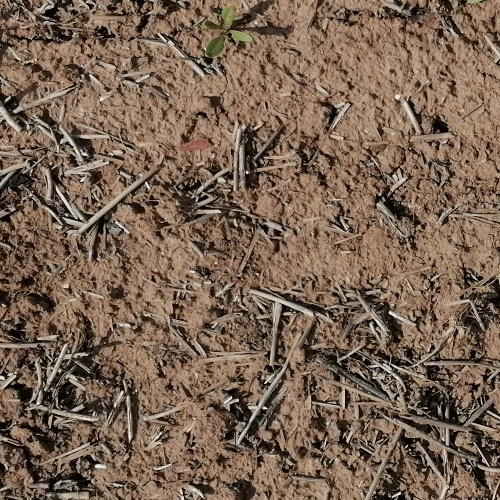beet: (203, 7, 251, 59)
